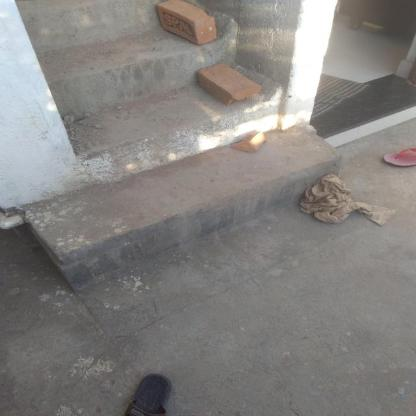stair: (24, 0, 314, 277)
